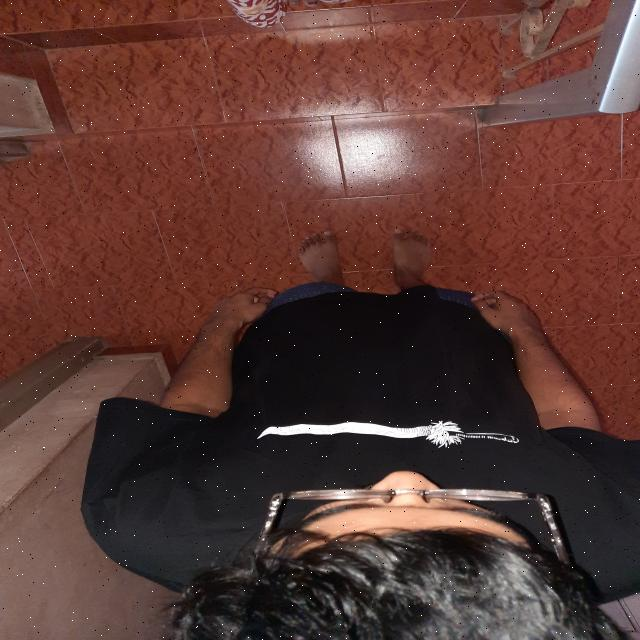humans: (83, 210, 640, 640)
